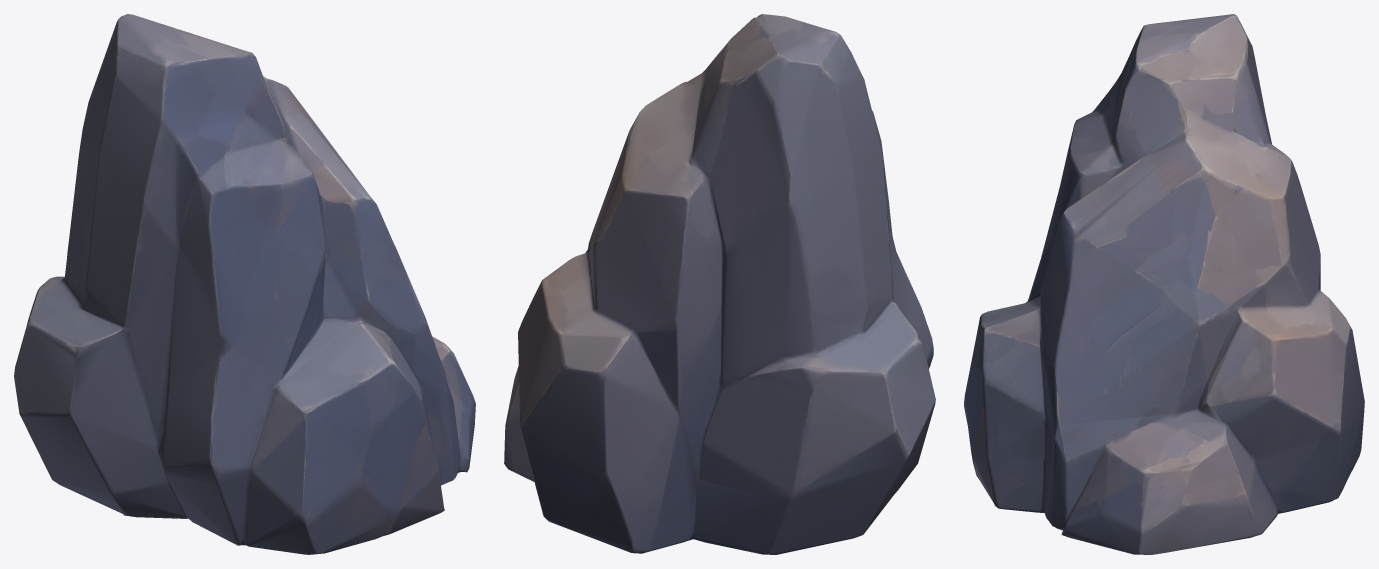
3 views of the same model, side by side, from view 1: azimuth 30°, elevation 25°; view 2: azimuth 150°, elevation 25°; view 3: azimuth 270°, elevation 25° (orthographic). The views are drawn at different scales.
Visible parts, largest first — view 1: tripo_node_ebbf06bd-2acd-4907-8c0e-632f2fbcfea1; view 2: tripo_node_ebbf06bd-2acd-4907-8c0e-632f2fbcfea1; view 3: tripo_node_ebbf06bd-2acd-4907-8c0e-632f2fbcfea1.
Part boxes in pixels (x1=…): tripo_node_ebbf06bd-2acd-4907-8c0e-632f2fbcfea1: x1=14, y1=14, x2=475, y2=554; tripo_node_ebbf06bd-2acd-4907-8c0e-632f2fbcfea1: x1=504, y1=14, x2=935, y2=554; tripo_node_ebbf06bd-2acd-4907-8c0e-632f2fbcfea1: x1=964, y1=14, x2=1364, y2=554.
Size of the model in its own units: 0.9629 by 0.998 by 0.8848.
1 material, 1 textured.
